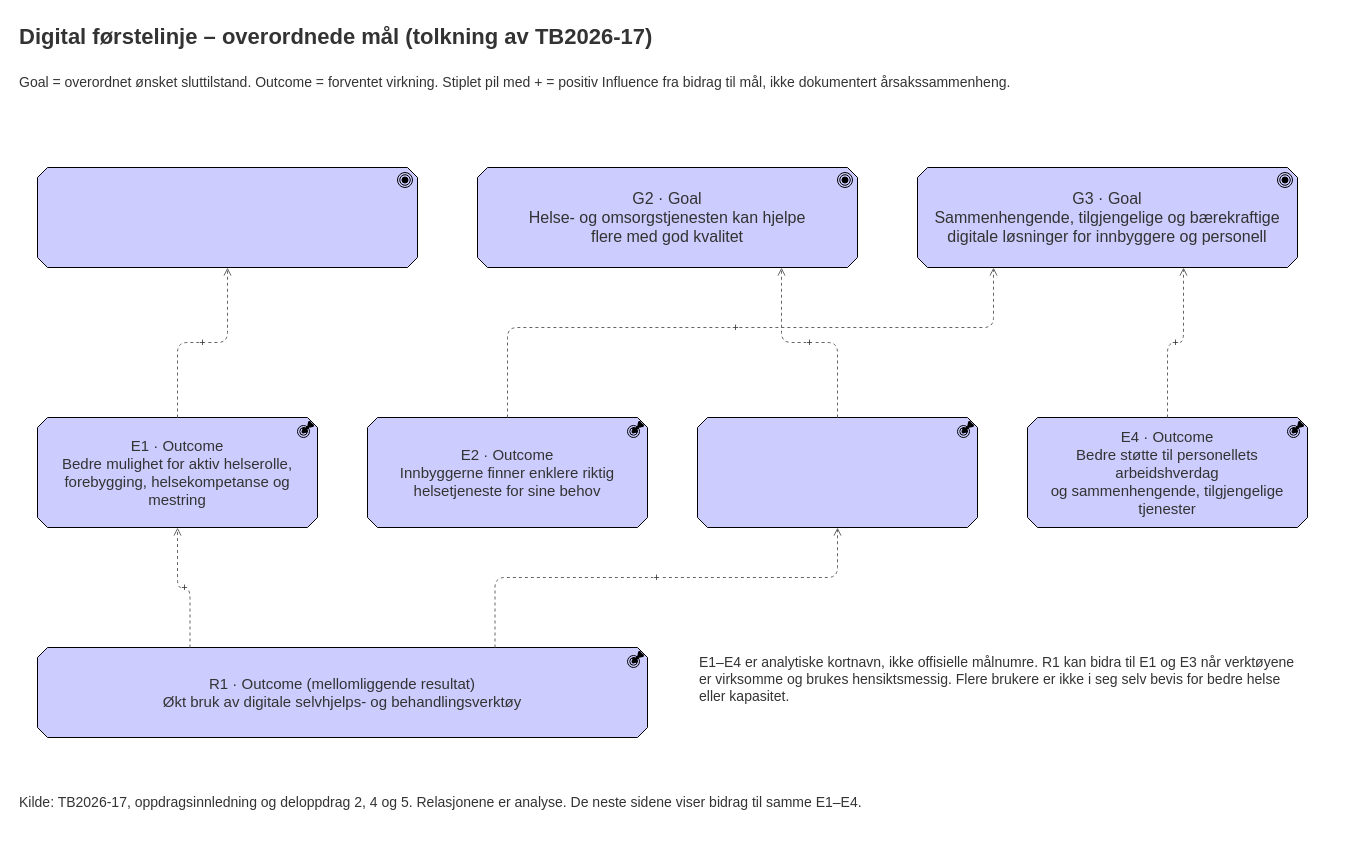
The diagram is 1354 pixels wide and 854 high, and some of its shapes have lost their labels. The centre of each missing label's shape, as x and y in pixels:
"E3 · Outcome Styrket evne til å yte helsehjelp til flere med god kvalitet" belongs at (x=837, y=472).
"G1 · Goal Innbyggerne kan ta en aktiv rolle i egen og næres helse" belongs at (x=227, y=217).
